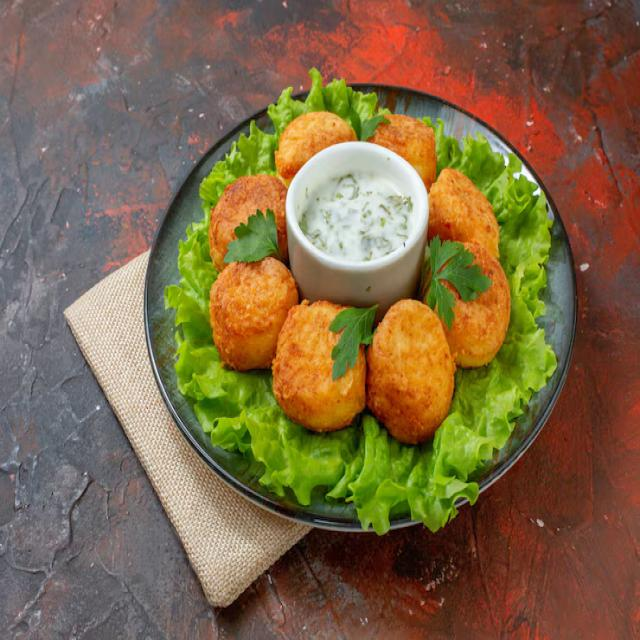BONDA: (200, 113, 534, 446), (286, 144, 439, 303)
WHITE CHUTNEY: (299, 170, 418, 262)
